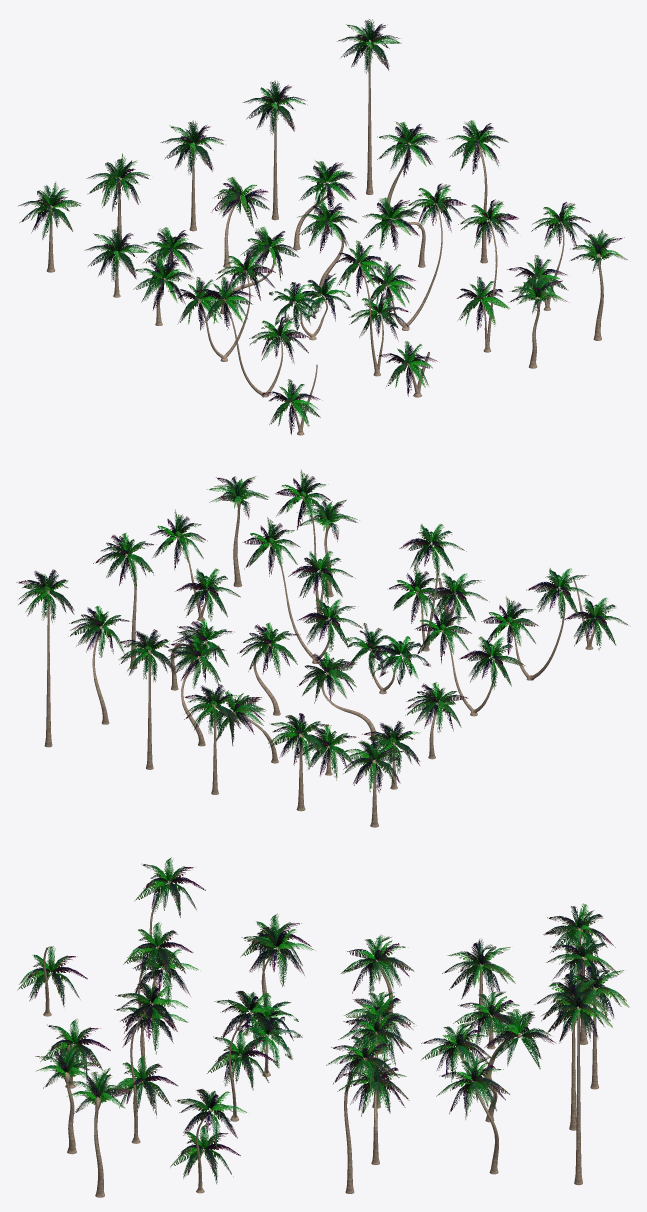
Rendered from palm_ns2.glb.
3 views of the same model, one above another, from view 1: azimuth 30°, elevation 25°; view 2: azimuth 150°, elevation 25°; view 3: azimuth 270°, elevation 25° (orthographic). The views are drawn at different scales.
Parts seen in each view (by area): view 1: M_Palm_P2_31; view 2: M_Palm_P2_31; view 3: M_Palm_P2_31.
Part boxes in pixels (x1,y1,x2,y2): M_Palm_P2_31: (18,19,627,435); M_Palm_P2_31: (16,469,630,827); M_Palm_P2_31: (17,857,629,1197).
Size of the model in its own units: 10968 by 4342 by 12251.
4 materials, 2 textured.
